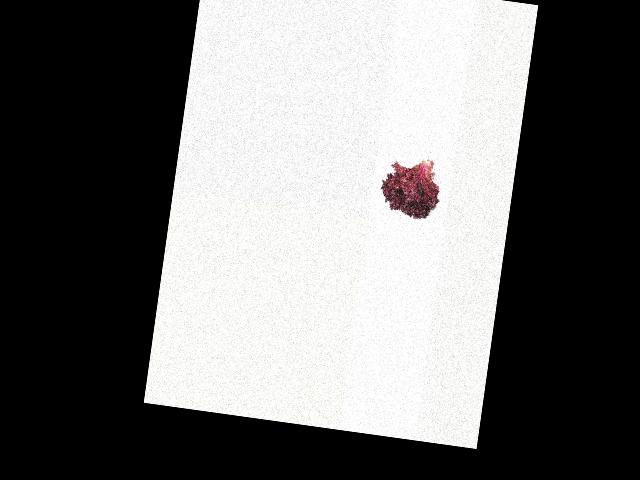lettuce: (375, 147, 443, 224)
